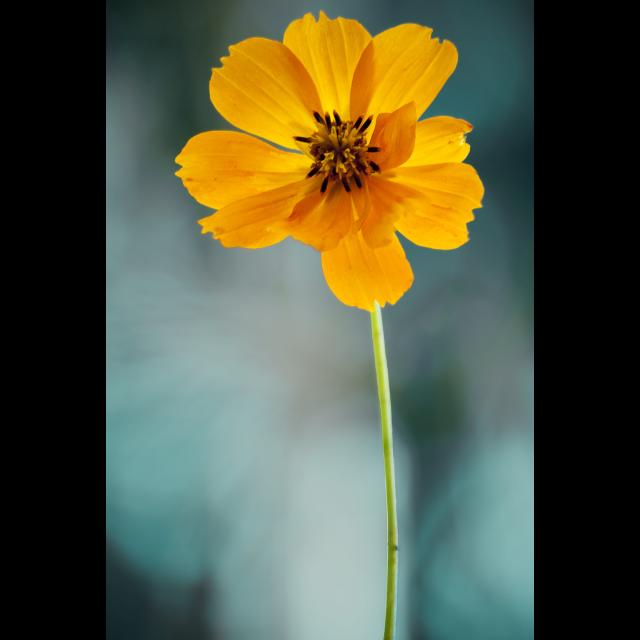Flower: (185, 6, 473, 324)
